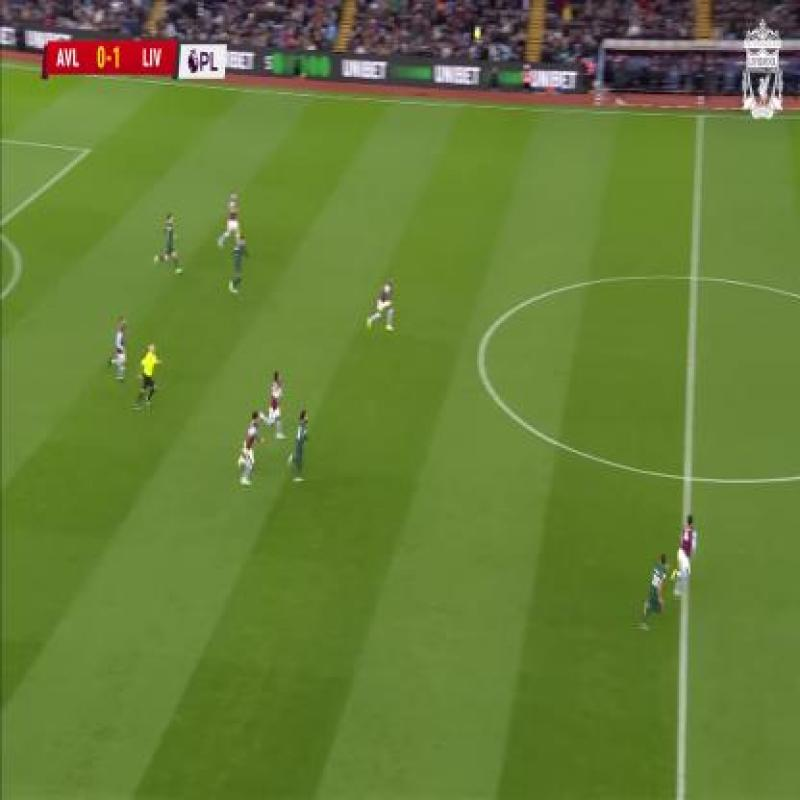13: (686, 86, 718, 150)
14: (673, 248, 719, 306)
15: (669, 446, 710, 510)
9: (71, 127, 104, 177)
c: (460, 338, 504, 376)
